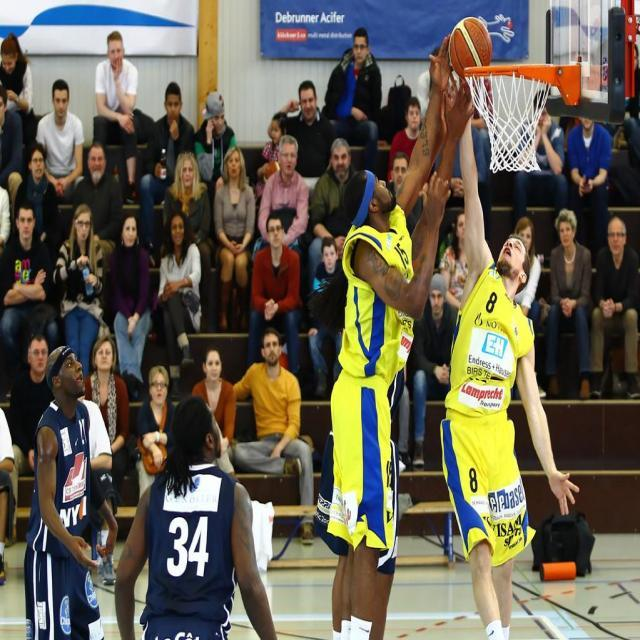rim: (448, 16, 492, 81)
